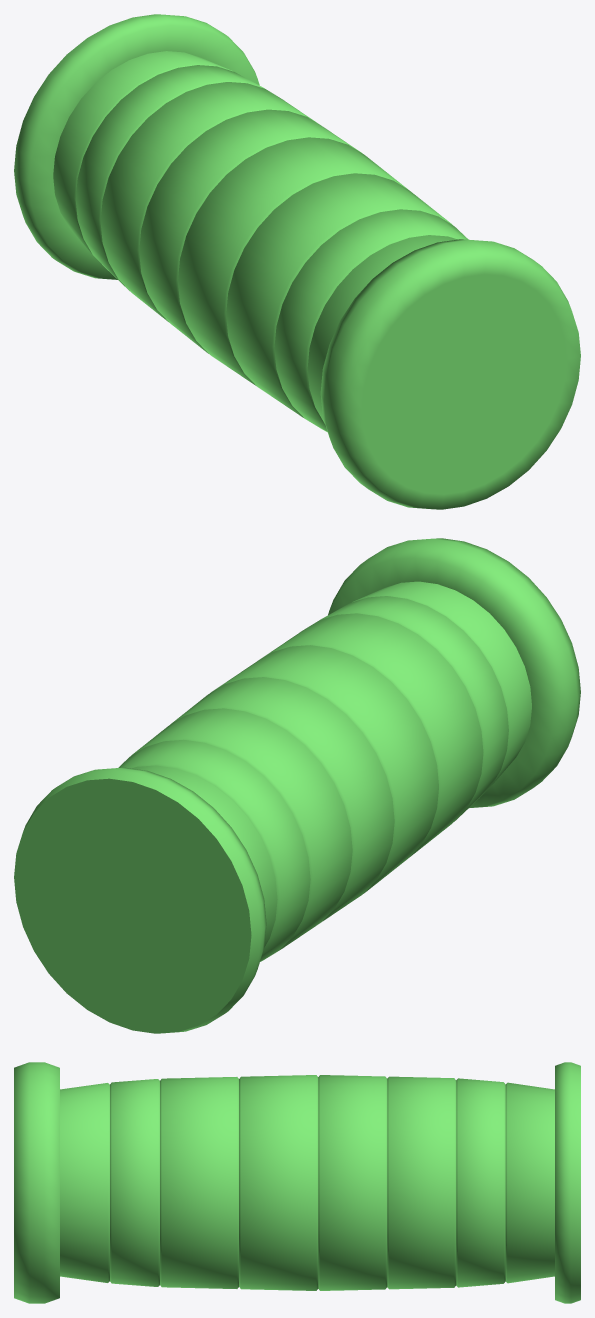
File: HandleGaz1.fbx
The picture shows the model from 3 angles, top to bottom: view 1: azimuth 30°, elevation 25°; view 2: azimuth 150°, elevation 25°; view 3: azimuth 270°, elevation 25°; orthographic projection. The views are drawn at different scales.
Parts seen in each view (by area): view 1: Cylinder.002; view 2: Cylinder.002; view 3: Cylinder.002.
Boxes of the visible parts, x1,y1,x2,y2 form: Cylinder.002: (14, 14, 580, 509); Cylinder.002: (14, 538, 580, 1033); Cylinder.002: (14, 1062, 580, 1303).
Bounding box in the file's own units: 38.28 × 38.28 × 89.74.
